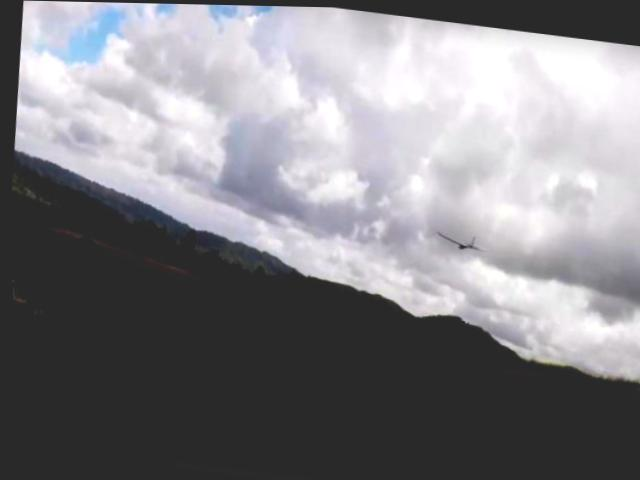iha: (434, 227, 484, 253)
